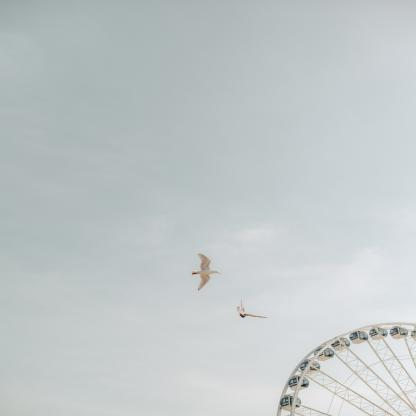bird: (189, 253, 224, 292), (235, 300, 266, 320)
